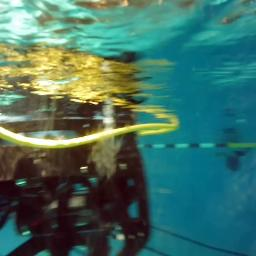Side: (0, 122, 152, 255)
